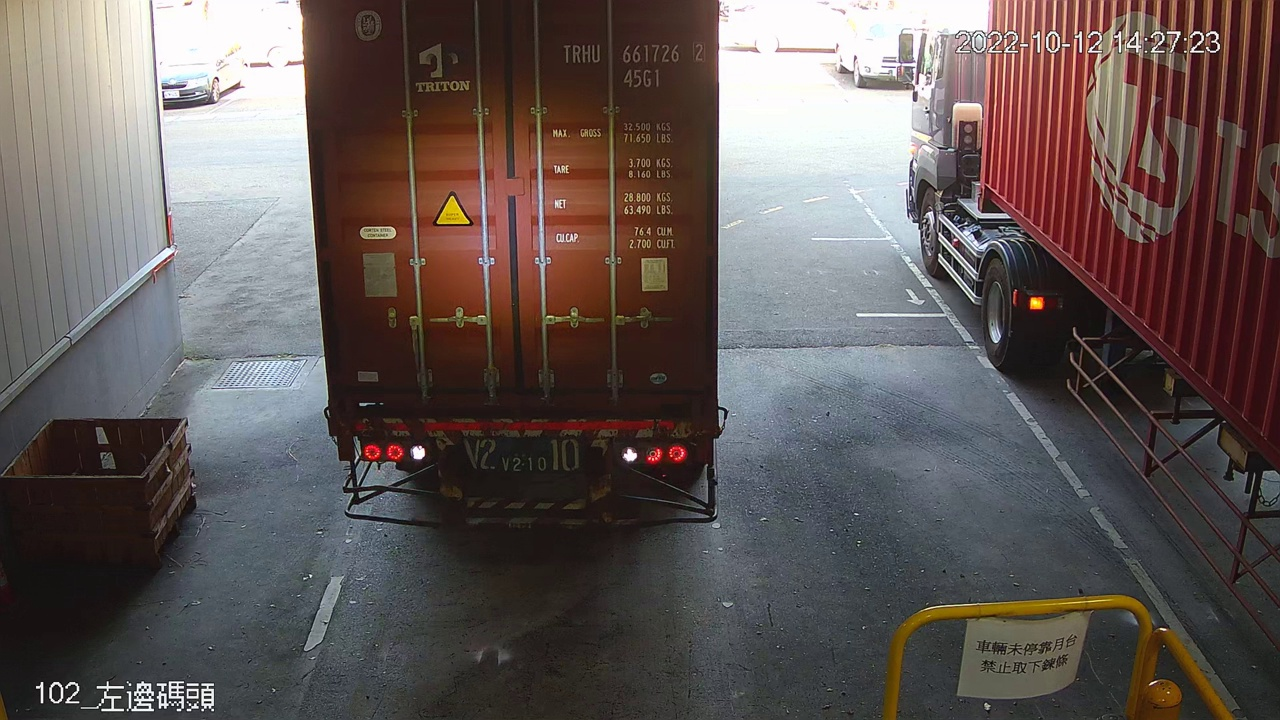container: (555, 35, 708, 93)
